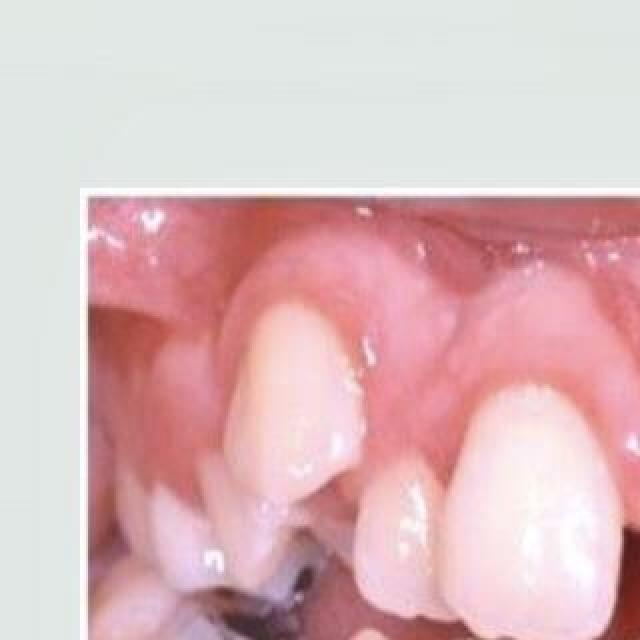maligned: (208, 286, 358, 508)
missing: (198, 632, 354, 640)
spacing: (592, 476, 640, 640)
